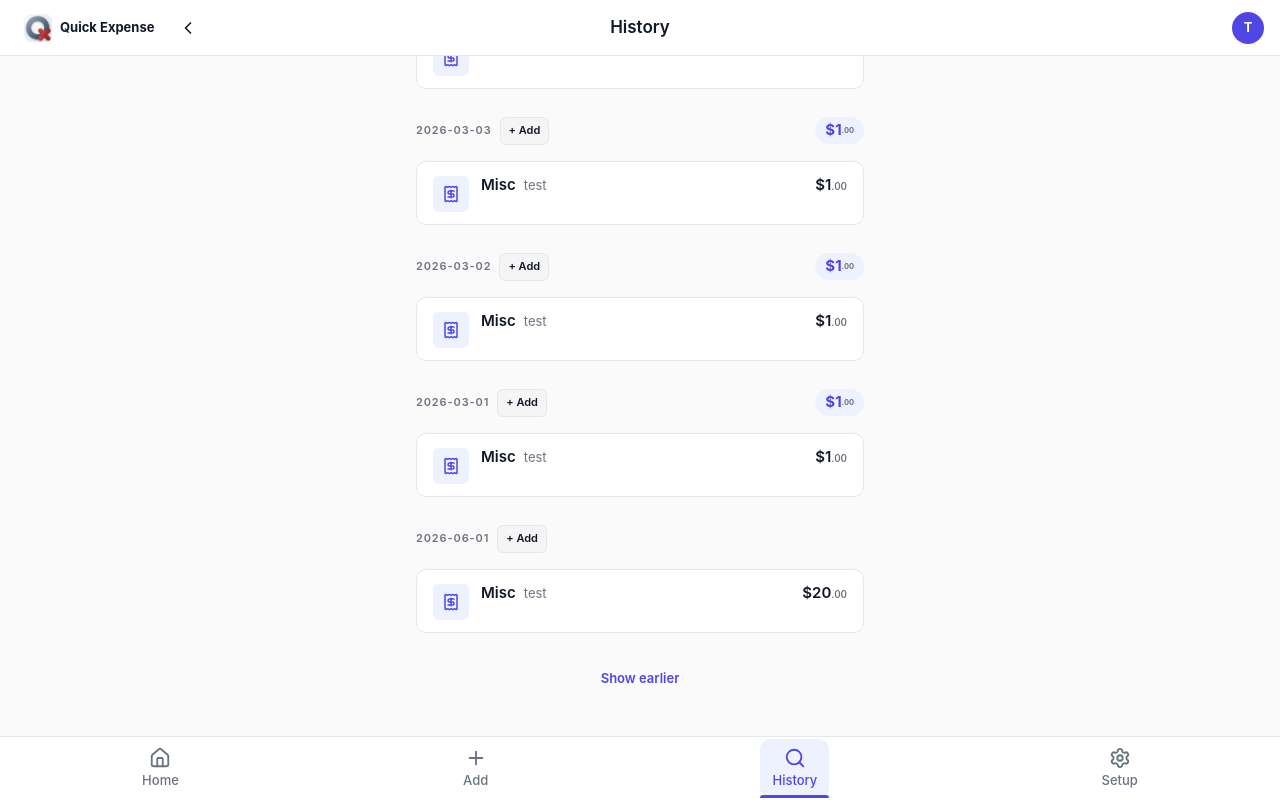
HistoryPage — per-day totals › suppresses the total for a boundary day truncated by pagination, then shows it once 'Show earlier' loads the remainder
This screenshot has width=1280, height=800.
(page scrolled)
Click the button "Show earlier": (640, 678) [416,652,864,704]
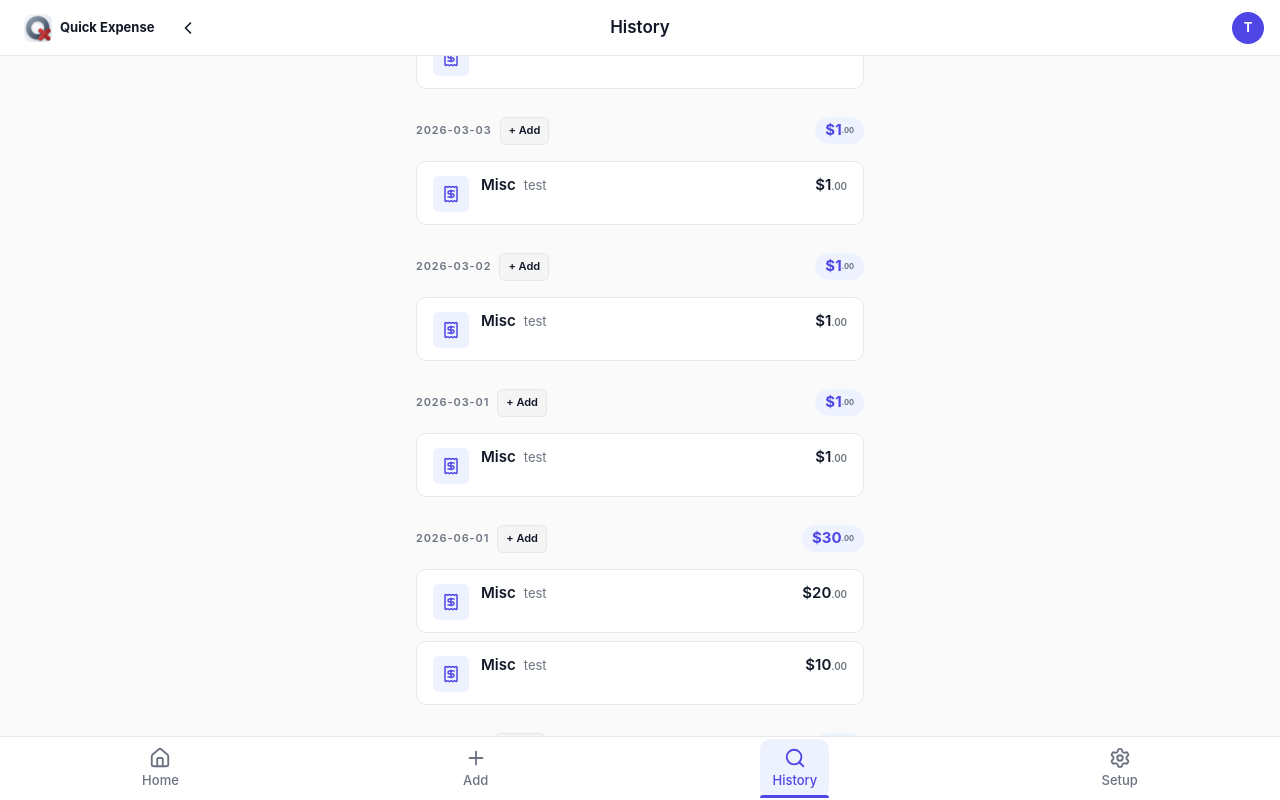
Now the element with class "expense-date-badge" showing "$30 .00" is shown, box [802,525,864,552]
